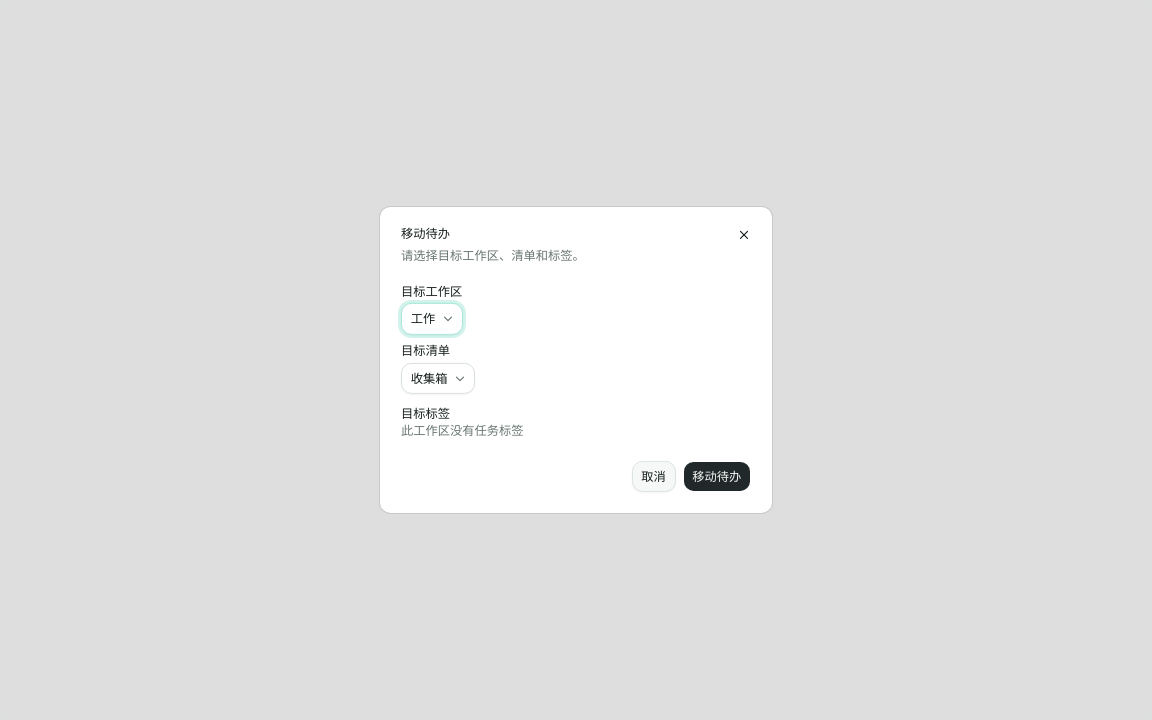
TaskMoveDialog › Service 失败时保留 dialog 与用户选择
What coordinates should you click on to do the following:
click the button "移动待办"
I would click on:
 (717, 476)
Its box is left=682, top=461, right=751, bottom=492.
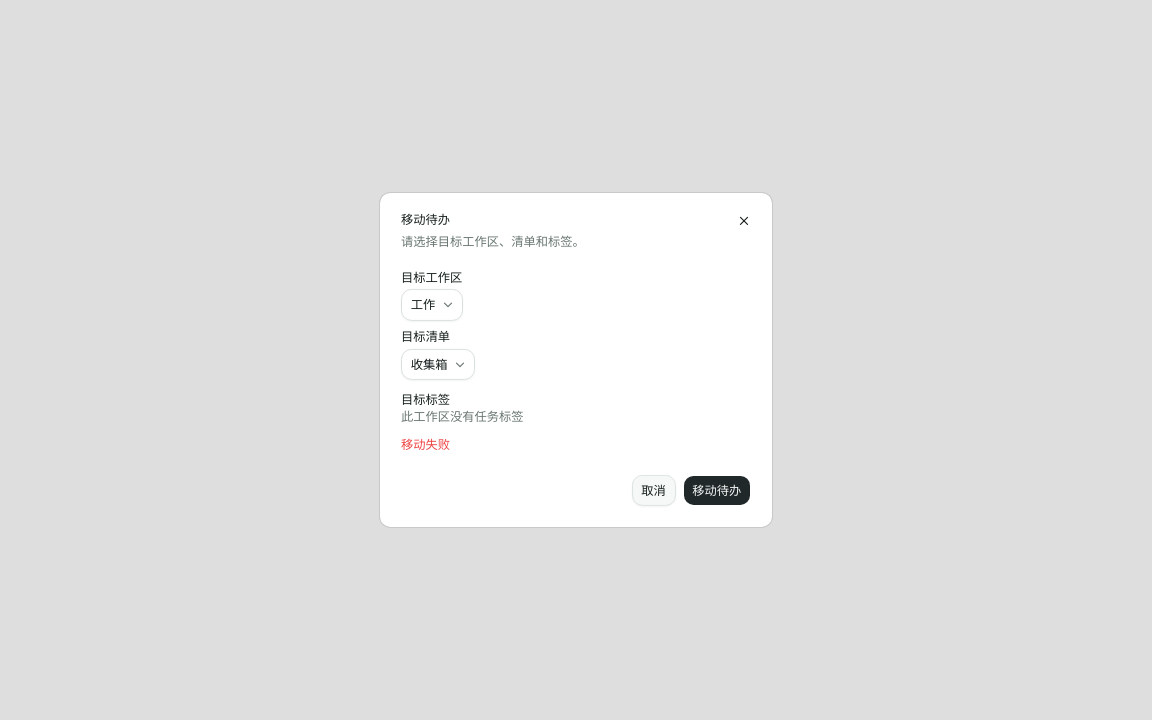
Expected: the dialog is shown, left=380, top=193, right=772, bottom=527
Now the text "移动失败" is shown, box left=401, top=437, right=450, bottom=452
